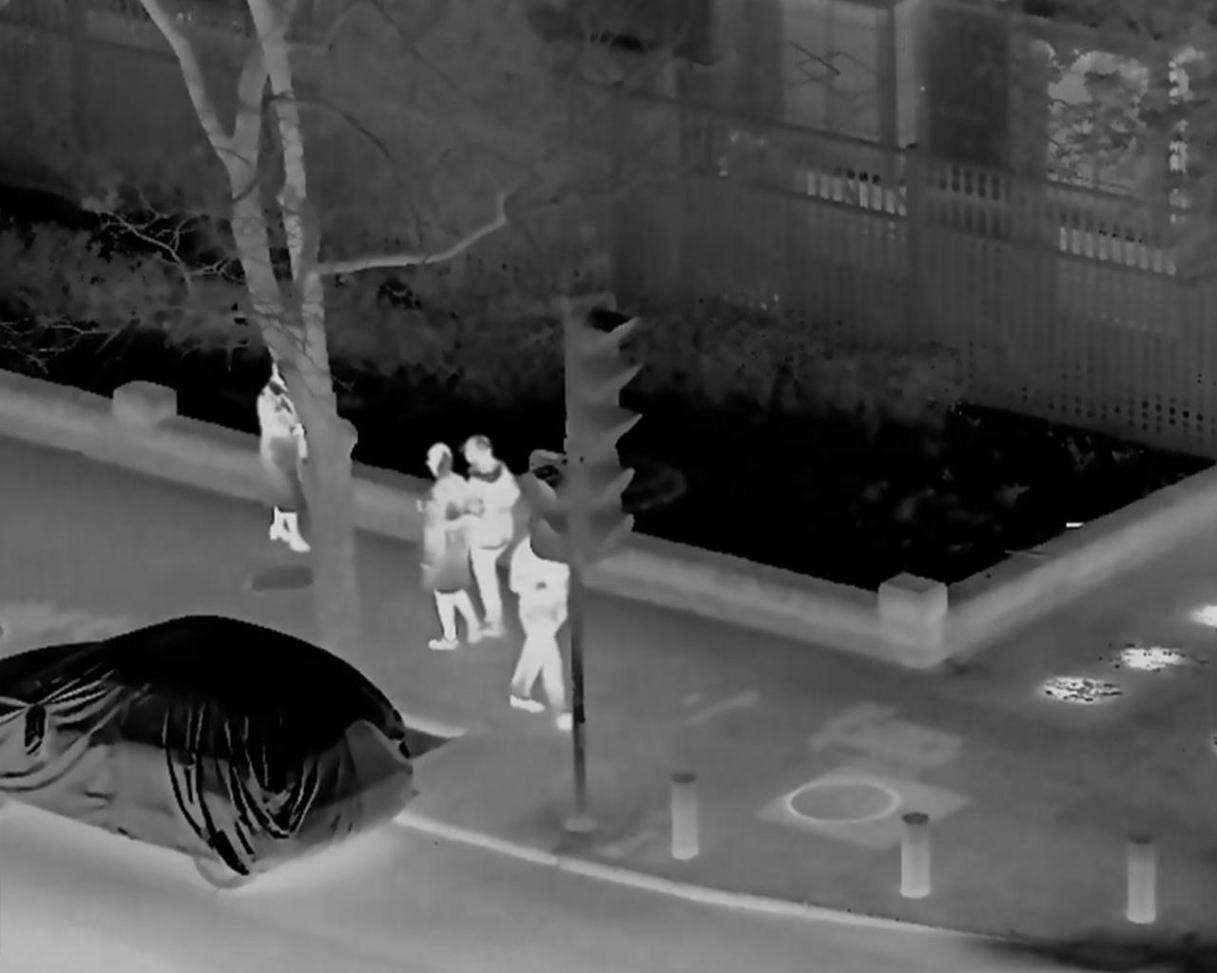person: (504, 520, 584, 734), (451, 435, 525, 639), (253, 362, 320, 555), (414, 446, 474, 649)
